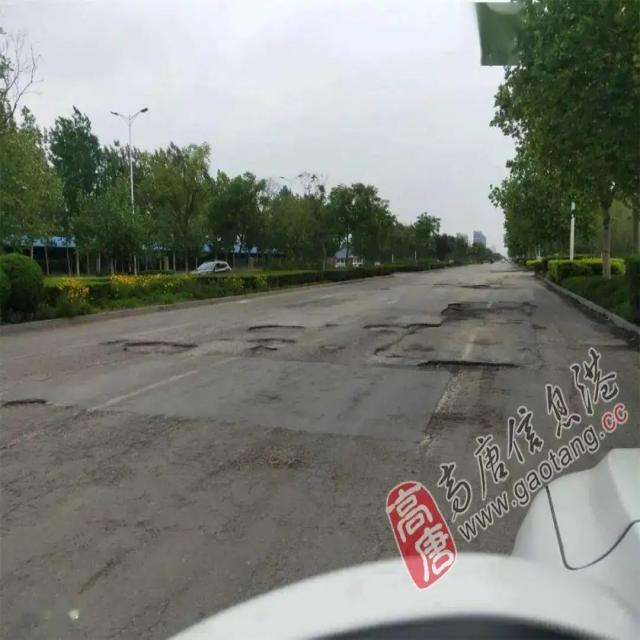Pothole: (362, 302, 538, 374), (247, 324, 306, 357), (120, 340, 196, 356), (452, 280, 520, 292), (3, 396, 47, 411)
